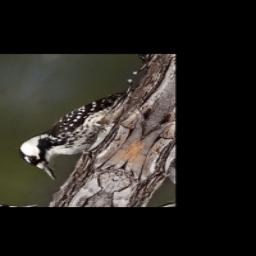Woodpecker: (3, 75, 136, 187)
